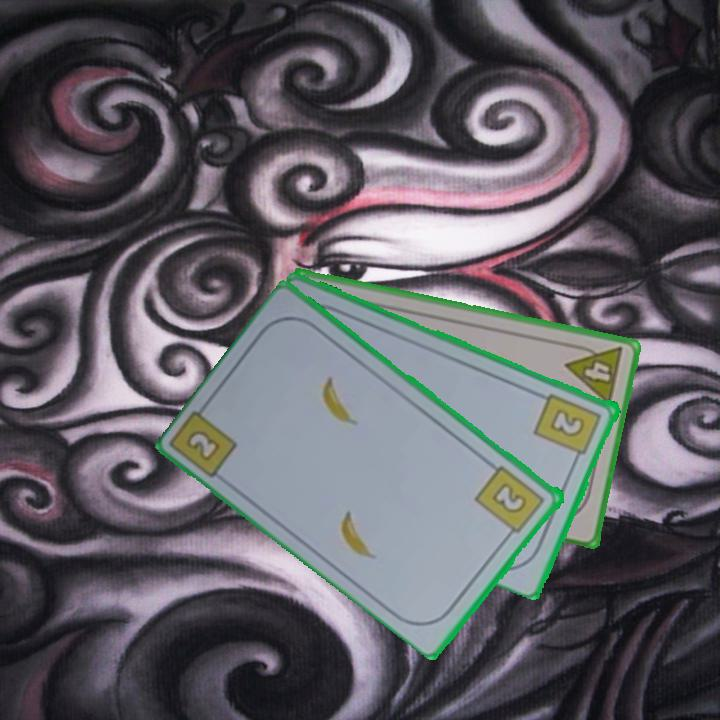2b: (472, 462, 548, 542), (531, 390, 605, 465), (183, 426, 224, 465)
4p: (562, 339, 627, 409)
